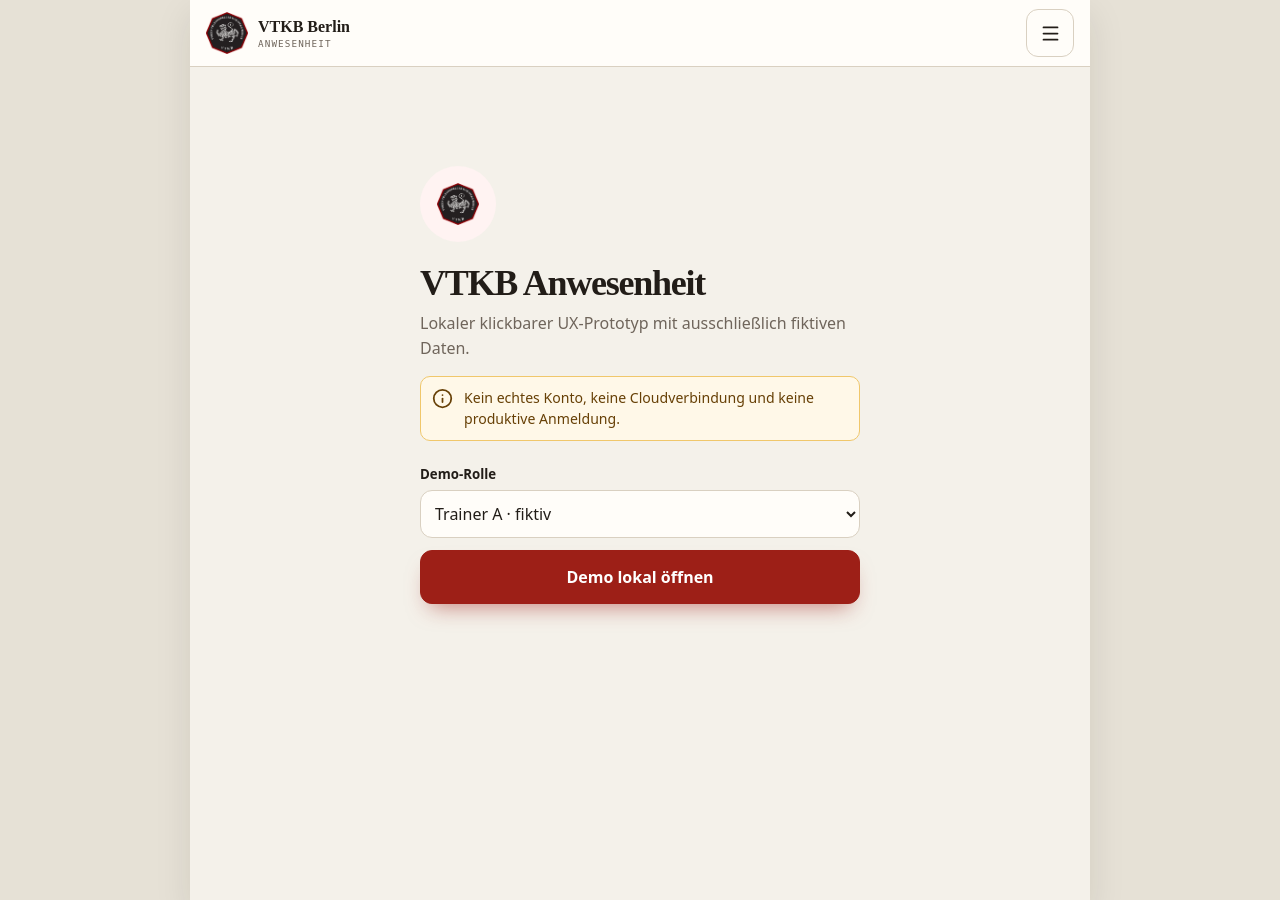
klickbarer Paket-1-Prototyp › zeigt der Rolle BOARD nur freigegebene Verwaltungsbereiche
Click the button "Demo lokal öffnen" at {"x": 640, "y": 577}, box [420,550,860,604]
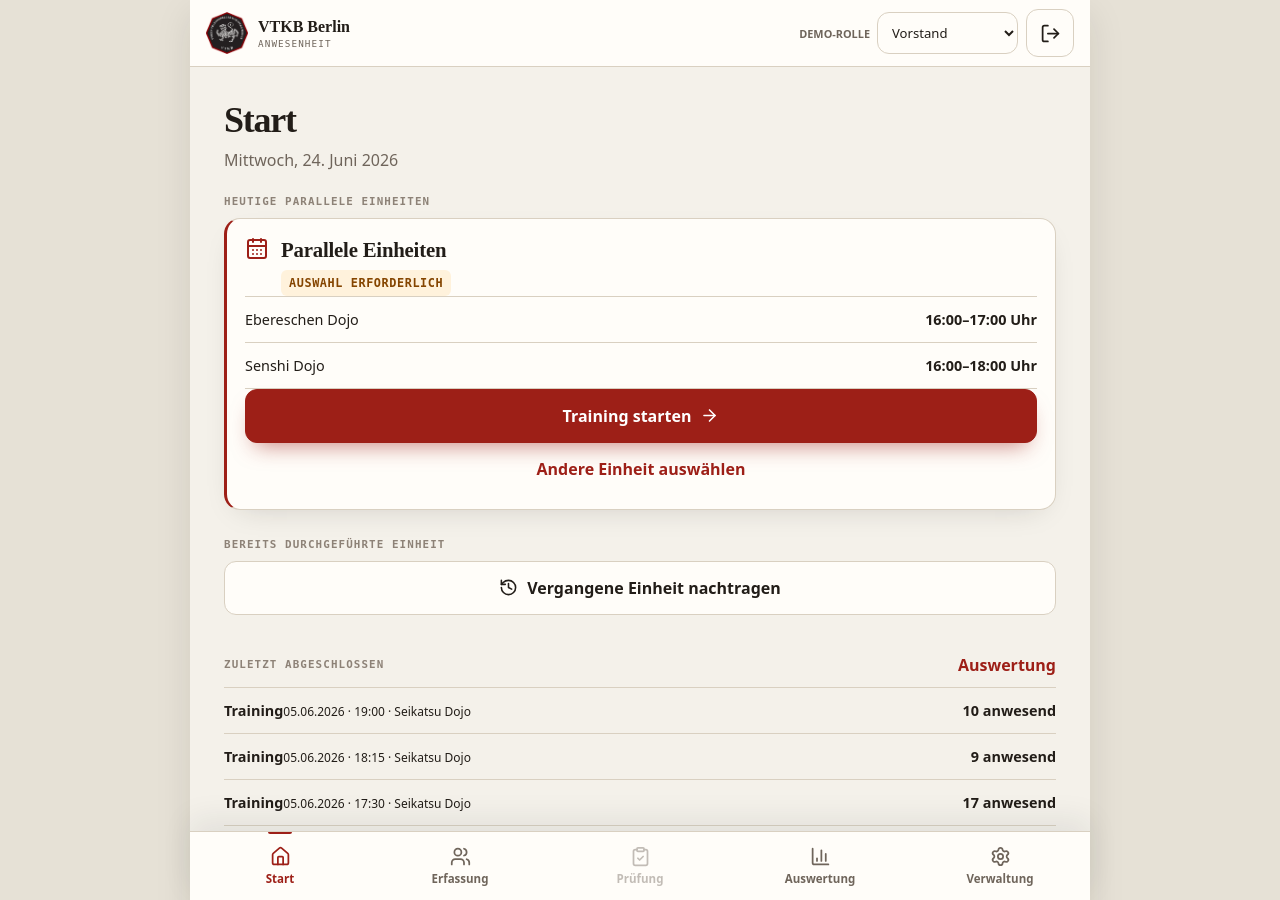
Select "Vorstand" in the dropdown named "Demo-Rolle wechseln" at {"x": 948, "y": 33}, box [877,12,1018,54]
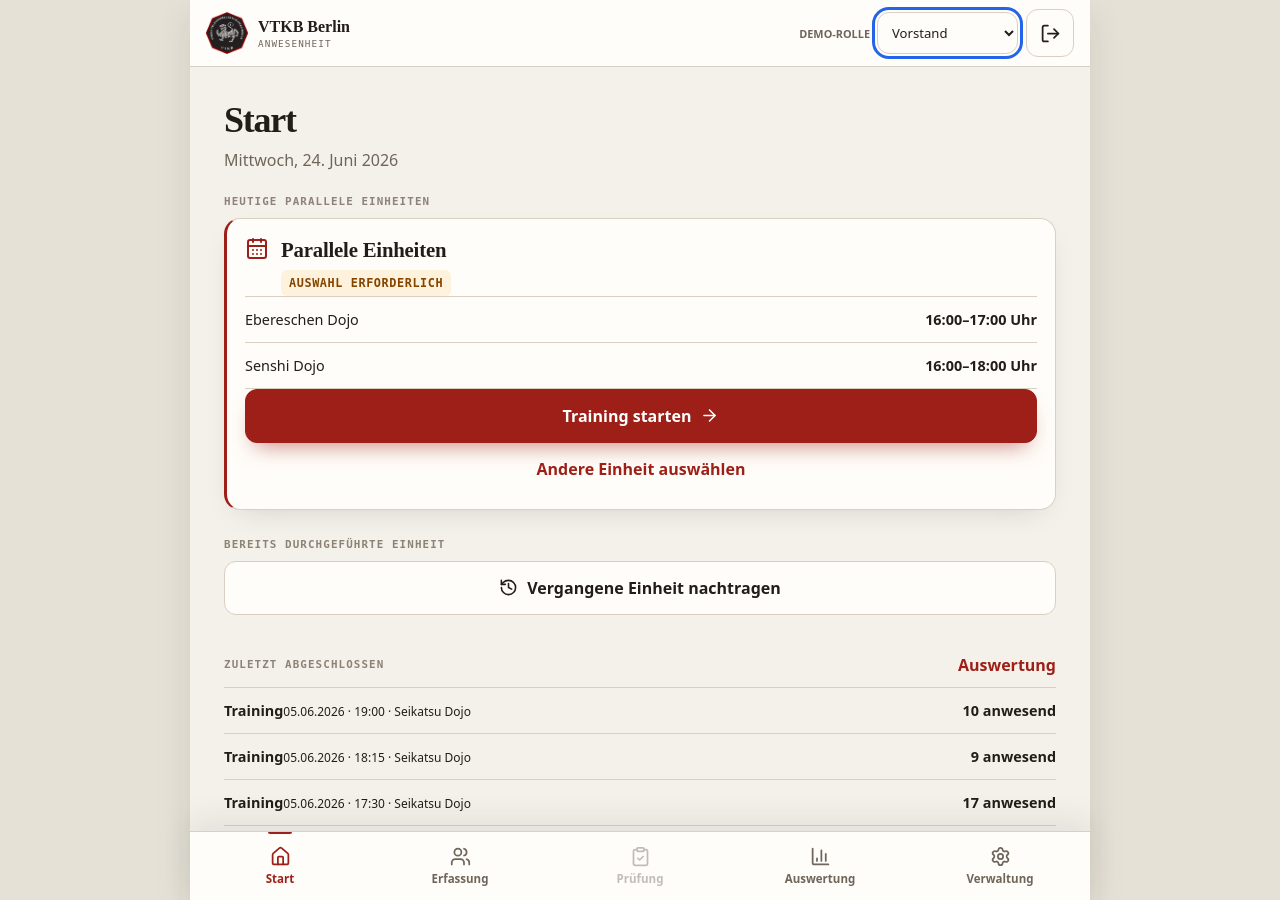
Click the button "Verwaltung" at {"x": 1000, "y": 866}, box [910,832,1090,899]
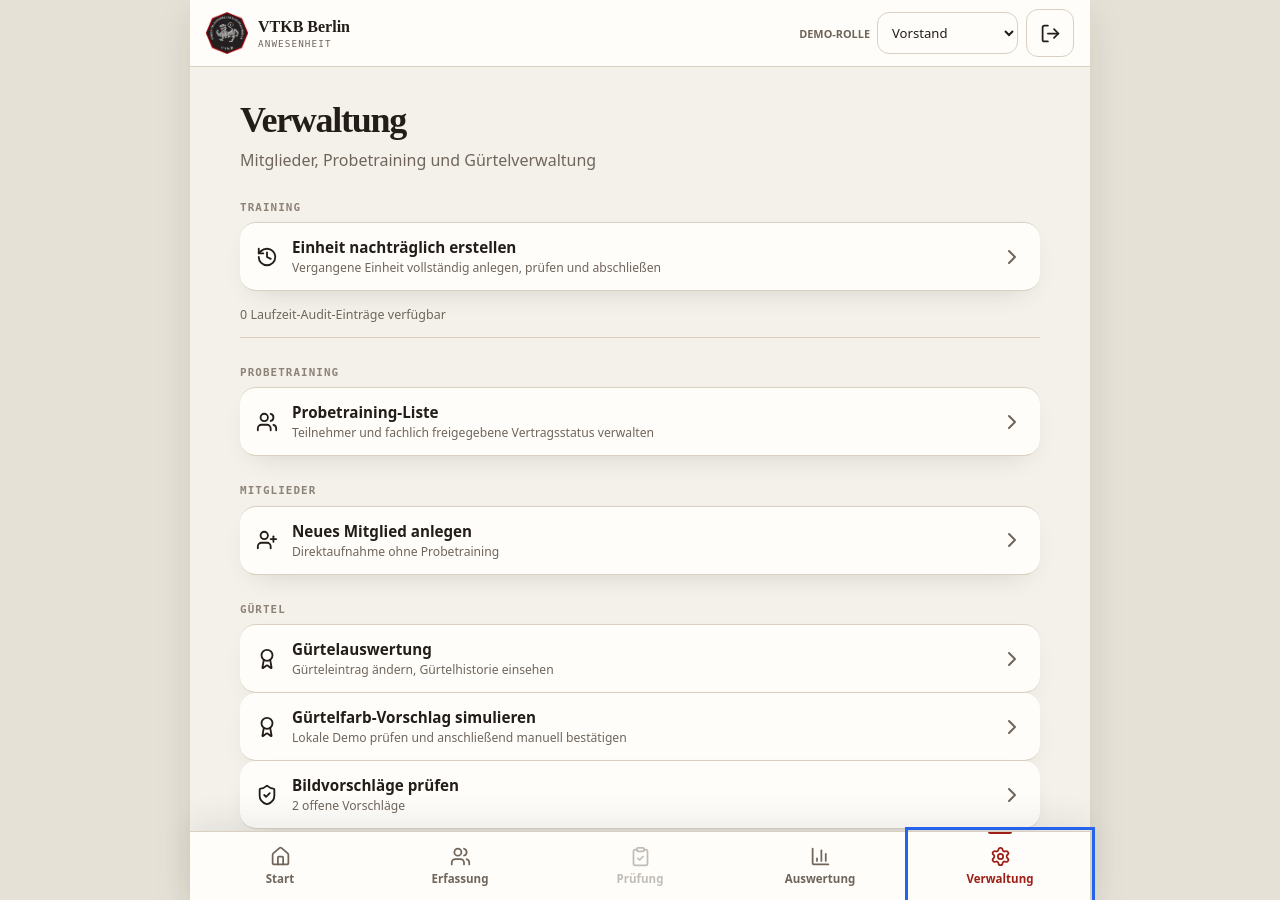
expect the button "Einheit nachträglich erstellen" is enabled: met, box [240,222,1040,291]
